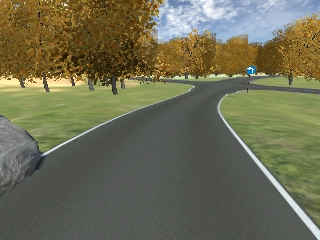left: (245, 64, 256, 75)
